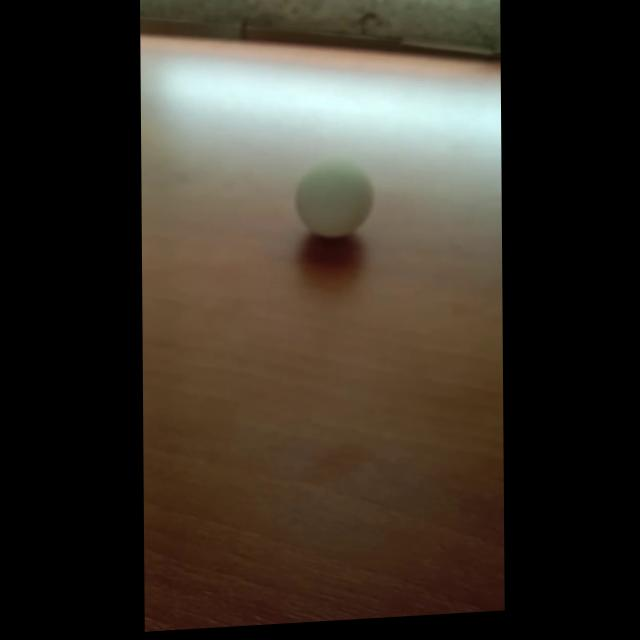white ball: (293, 156, 374, 241)
